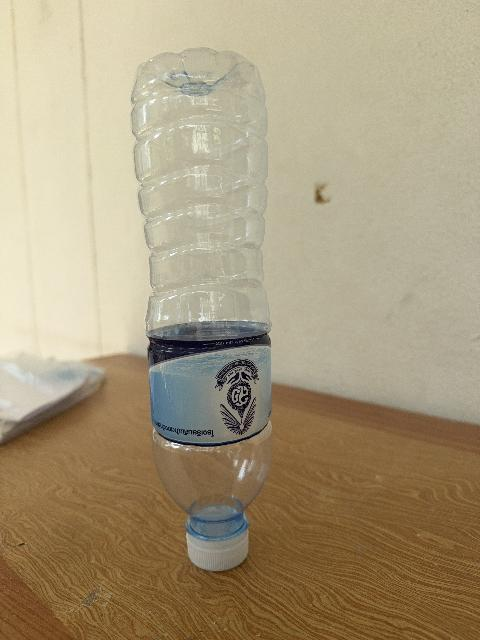bottle: (132, 49, 272, 570)
